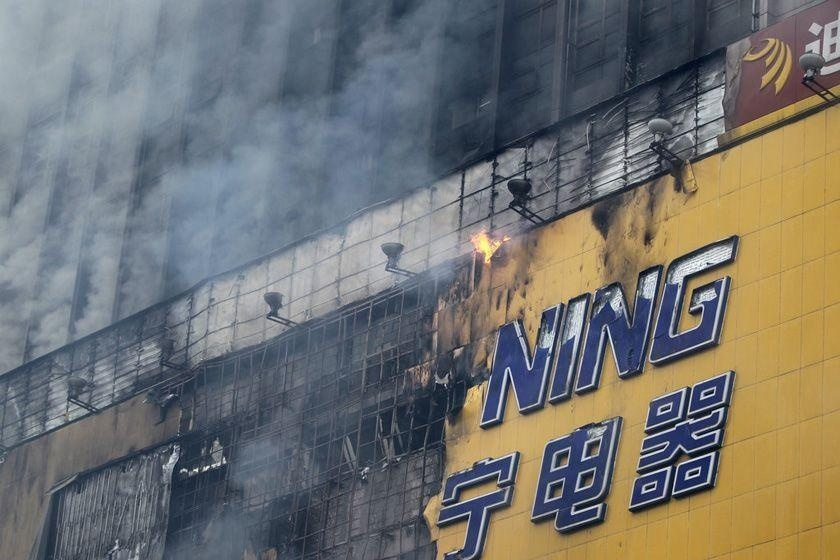fire: (470, 227, 508, 264)
